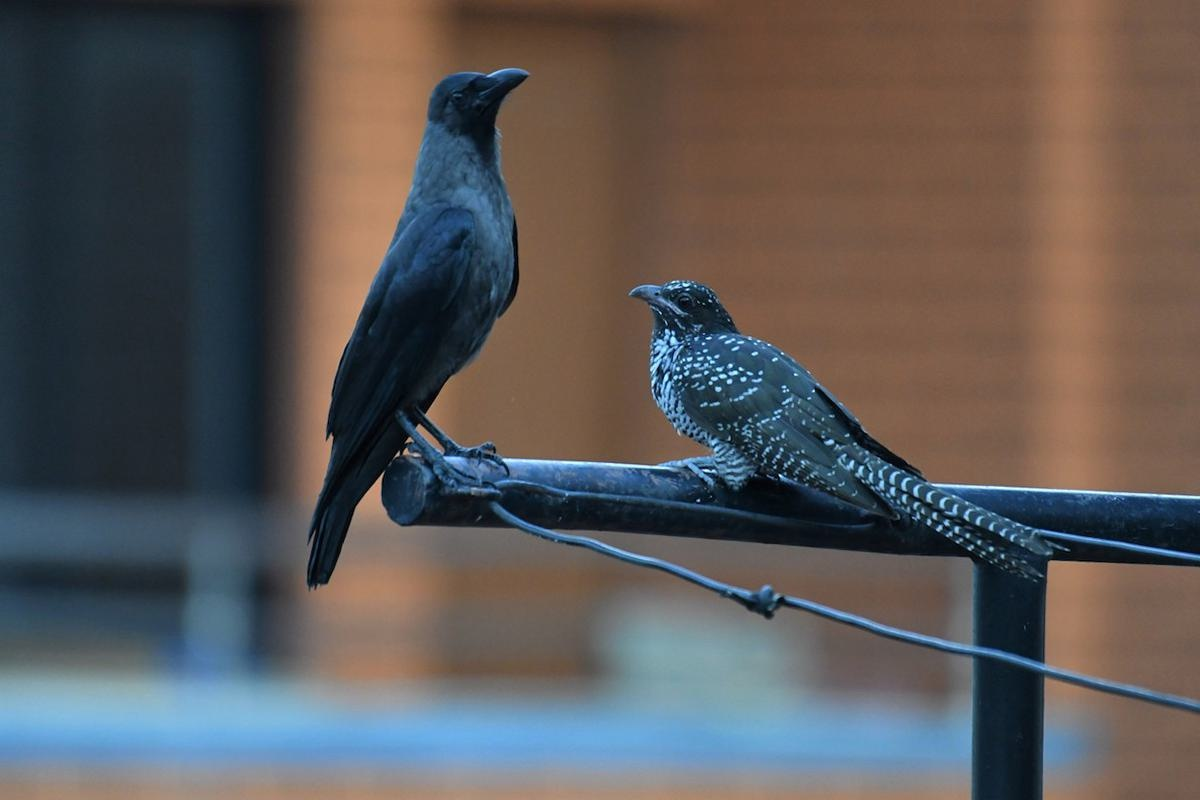crow: (270, 63, 536, 599)
